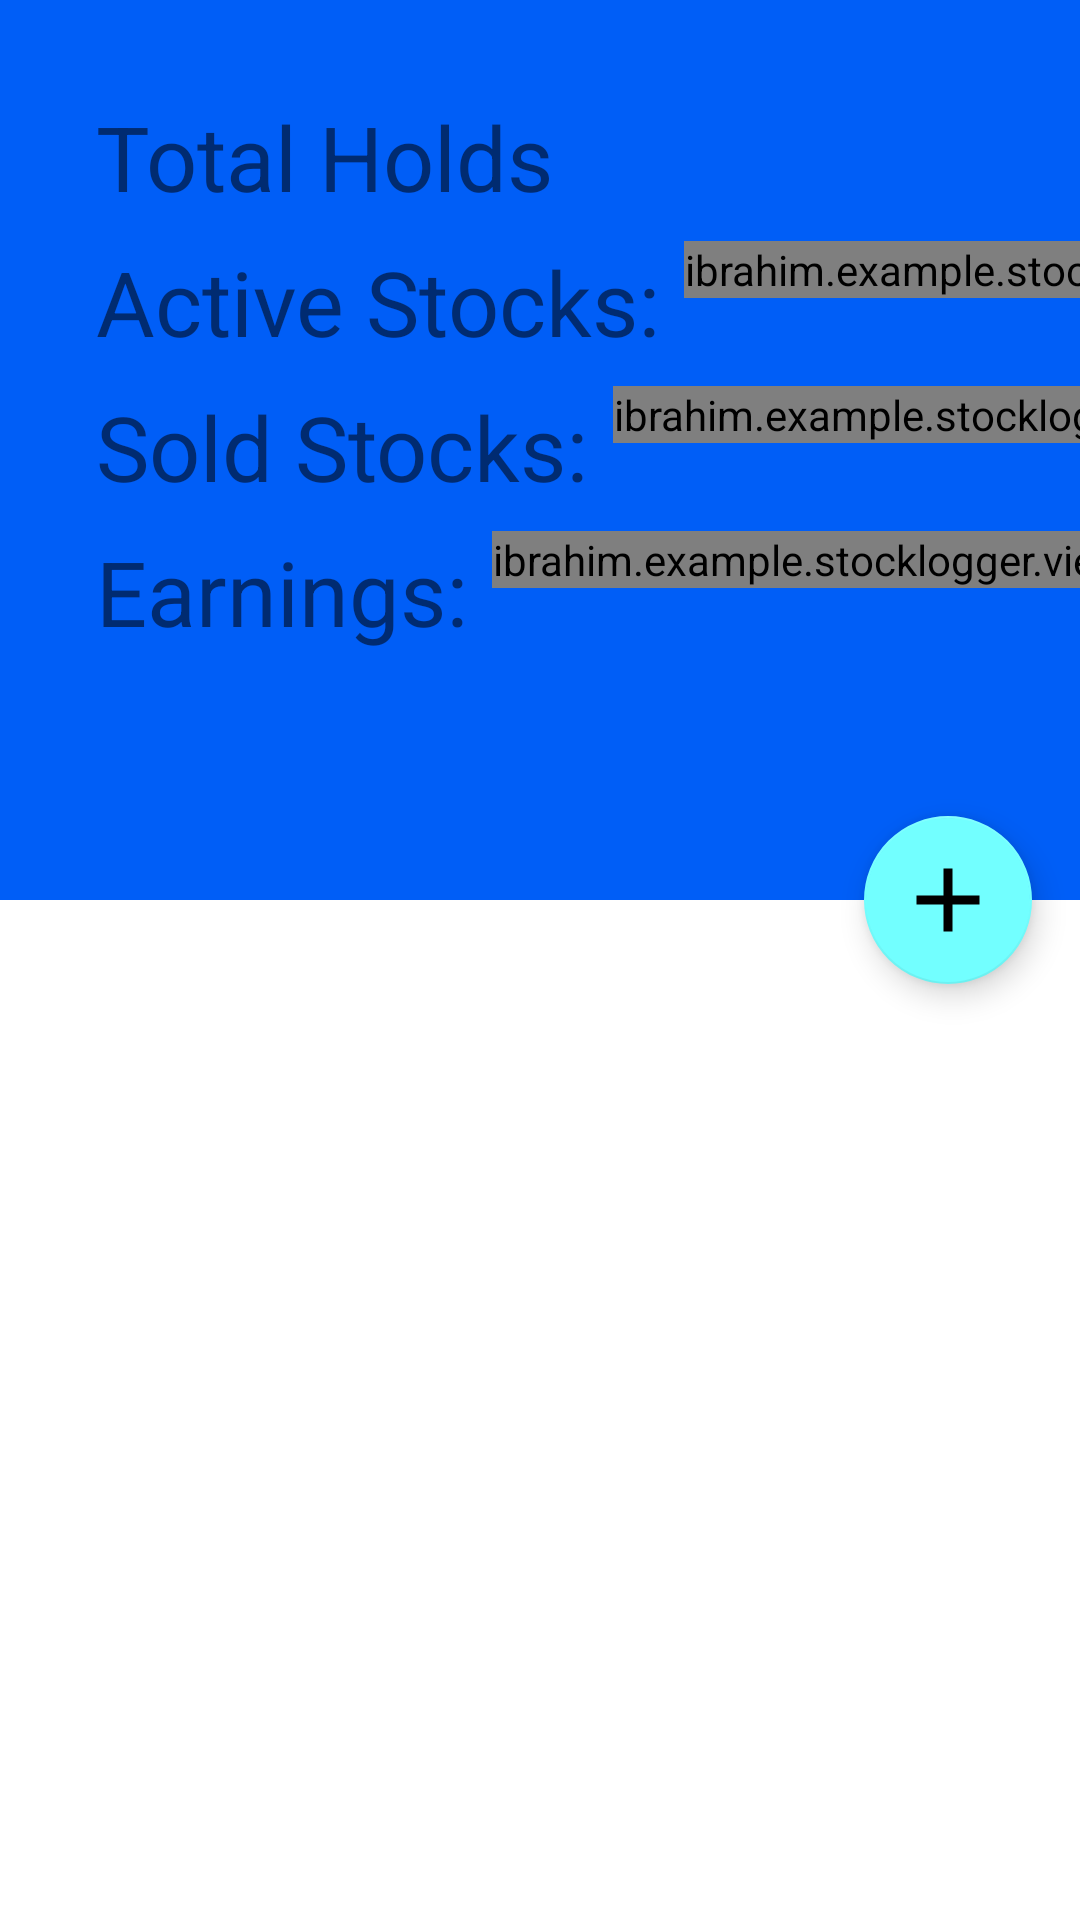

Where to tap for icons on this 1080w x 1920h app screen, as (x=x, y=y):
add: (x=948, y=900)
